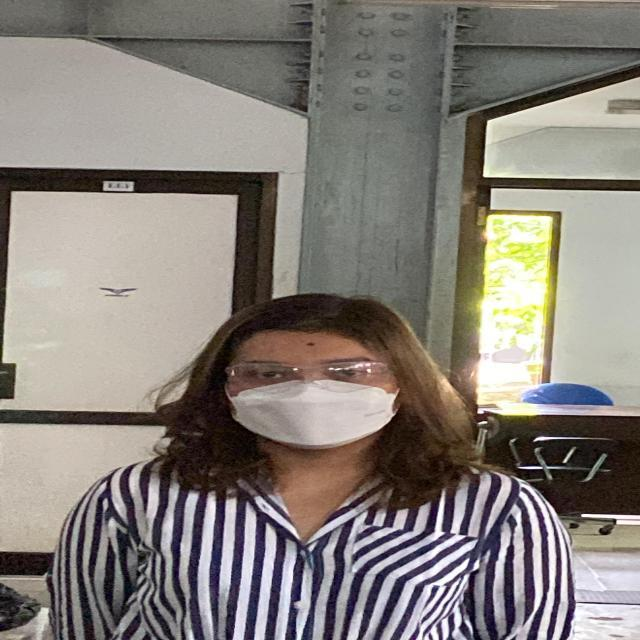glasses: (216, 354, 405, 394)
